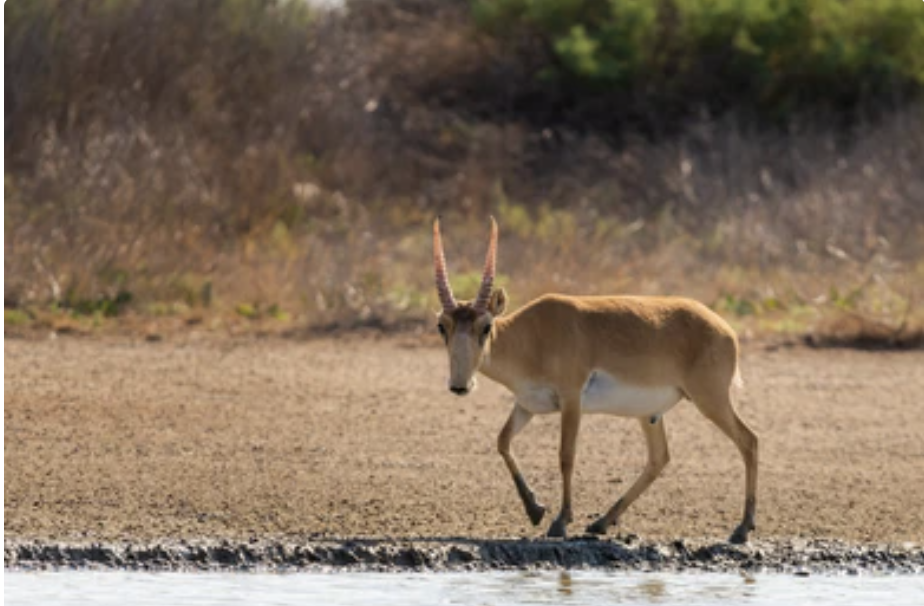saiga: (407, 209, 763, 528)
